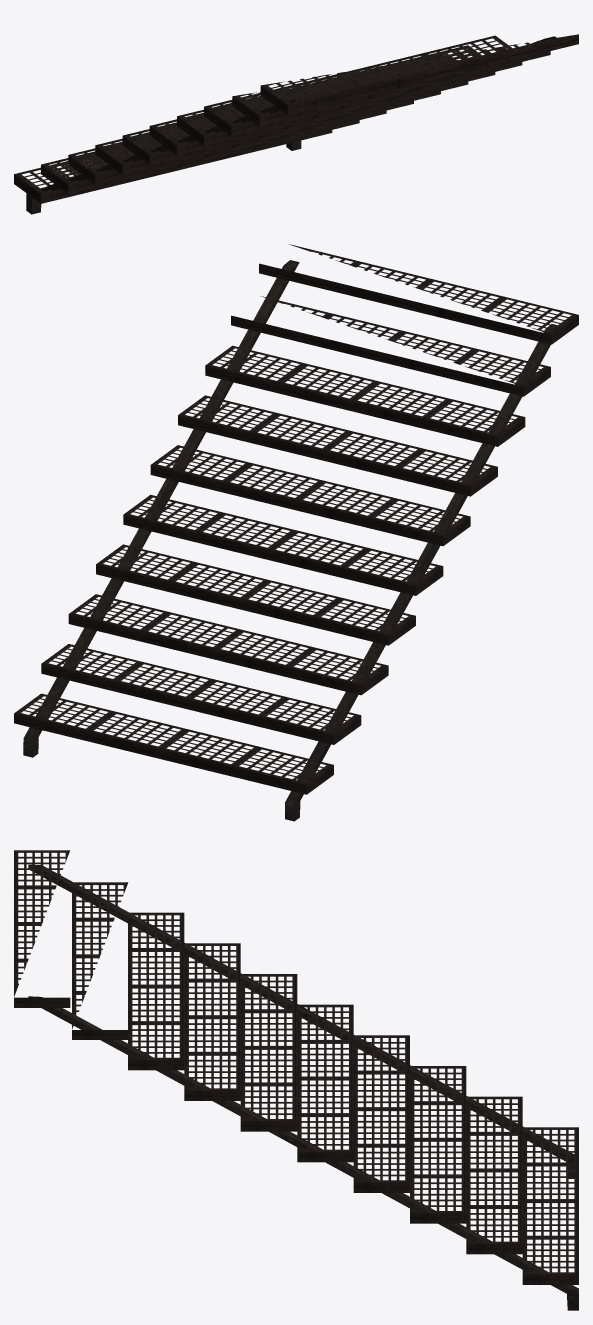
File: Stairs Open.glb
3 renders of one model, top to bottom at view 1: azimuth 30°, elevation 25°; view 2: azimuth 150°, elevation 25°; view 3: azimuth 270°, elevation 25°, orthographic. The views are drawn at different scales.
Visible parts, largest first — view 1: Stairs; view 2: Stairs; view 3: Stairs.
Part boxes in pixels (x1,y1,x2,y2): Stairs: (14,34,578,214); Stairs: (14,244,578,821); Stairs: (14,850,578,1310).
Size of the model in its own units: 3.11 by 3.12 by 5.01.
2 materials, 2 textured.
